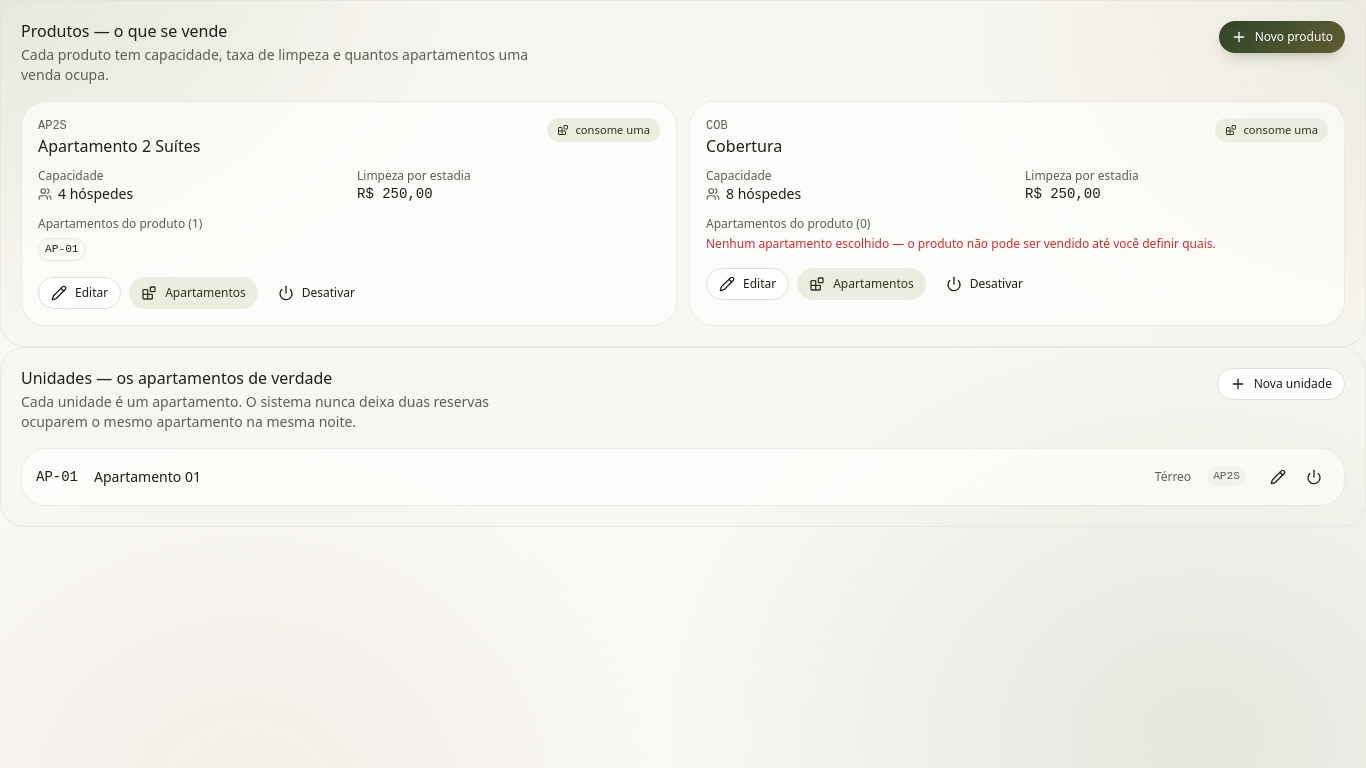
Test: PainelDeInventario — modais reabertos › não carrega os valores do produto anterior para a abertura seguinte
Click the button "Editar" below "Apartamento 2 Suítes": (80, 293) [38, 277, 121, 309]
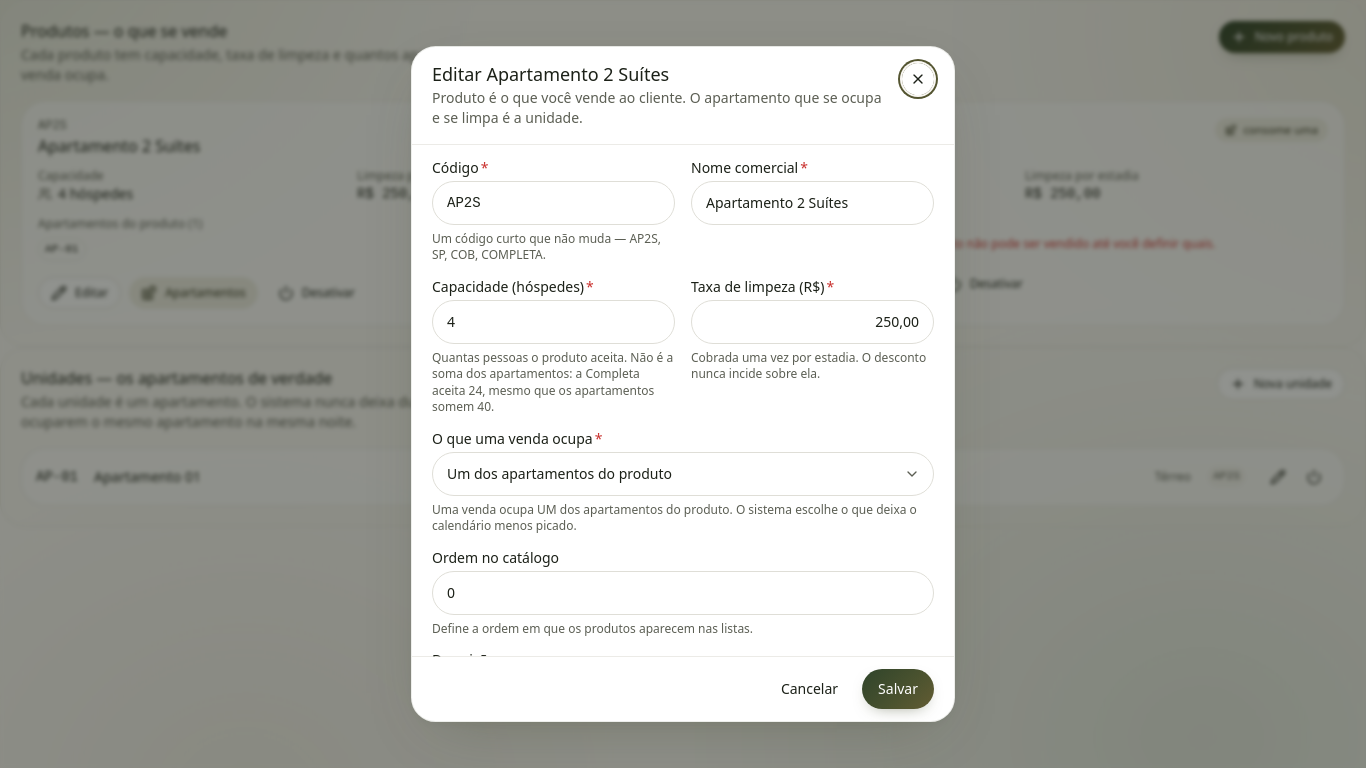
Expected: the dialog is shown, [411, 46, 955, 722]
Replace the text in the field labelled "Capacidade (hóspedes)*" with "99": (554, 322) [432, 300, 675, 344]
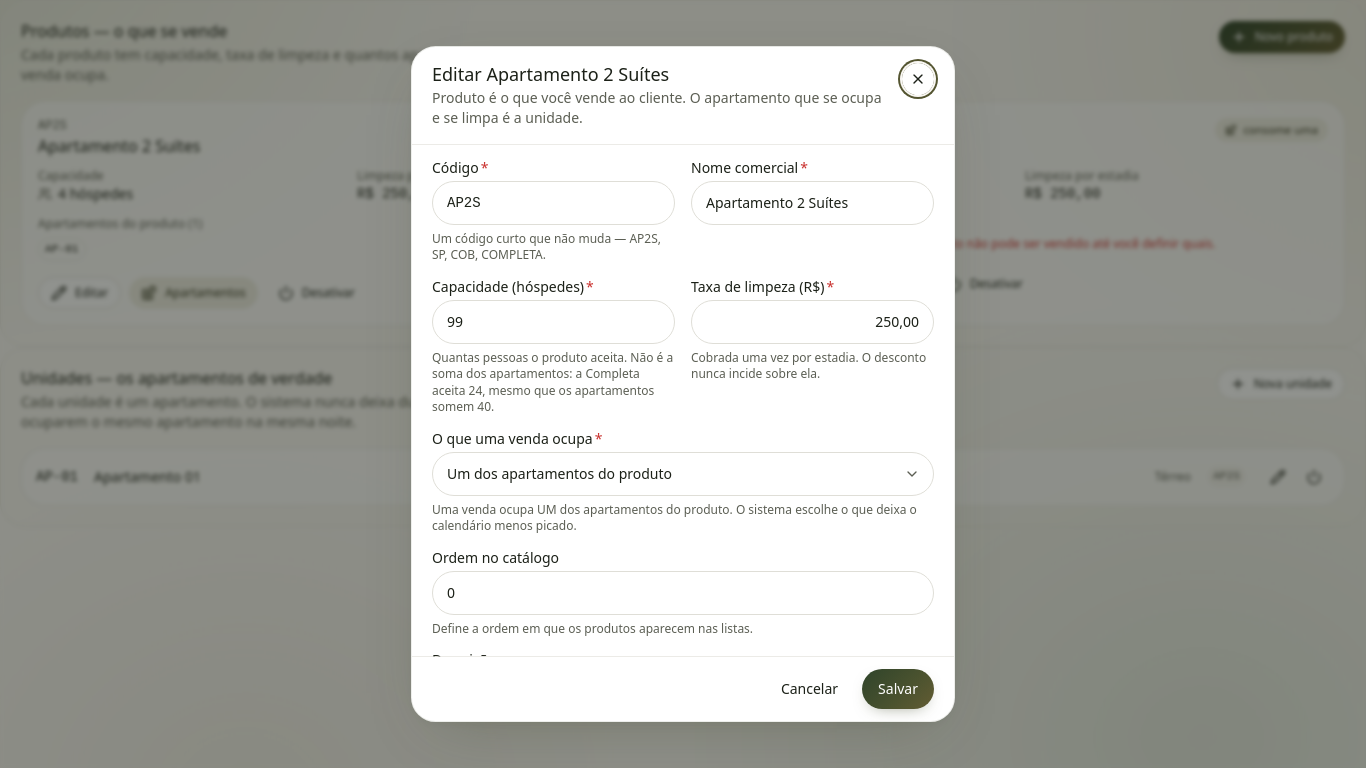
Click the button "Cancelar": (810, 689) [765, 669, 854, 709]
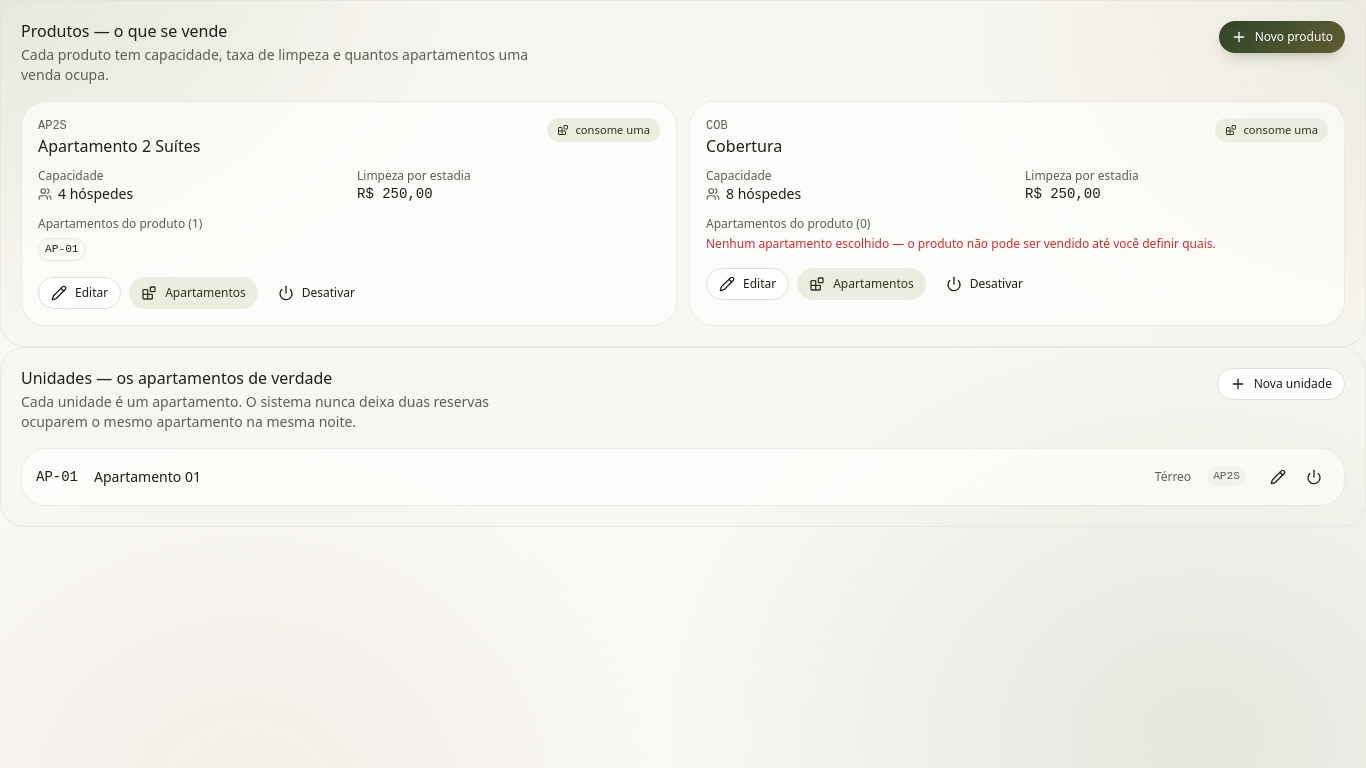
Expected: the dialog is gone
Click the button "Editar" below "Cobertura": (748, 284) [706, 268, 789, 300]
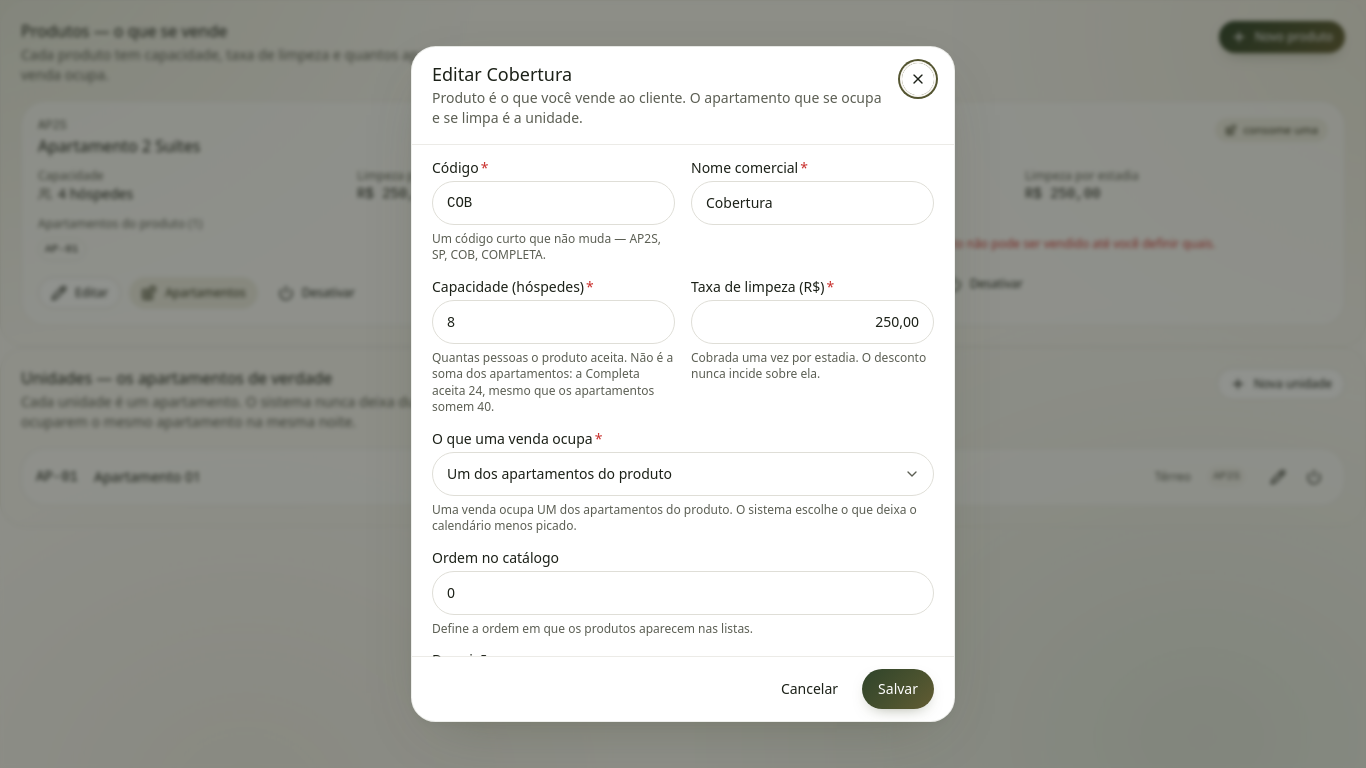
Expected: the dialog is shown, [411, 46, 955, 722]
Expected: the field labelled "Código*" holds "COB", [432, 181, 675, 225]
Expected: the field labelled "Capacidade (hóspedes)*" holds "8", [432, 300, 675, 344]
